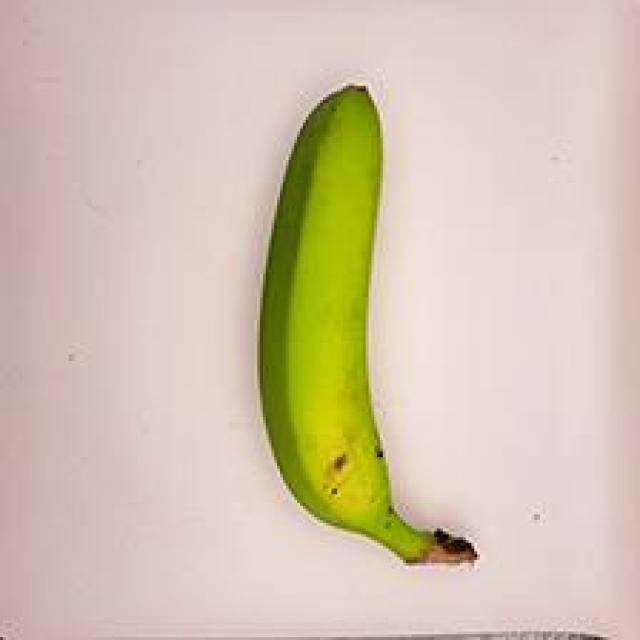Unripe: (187, 67, 537, 592)
